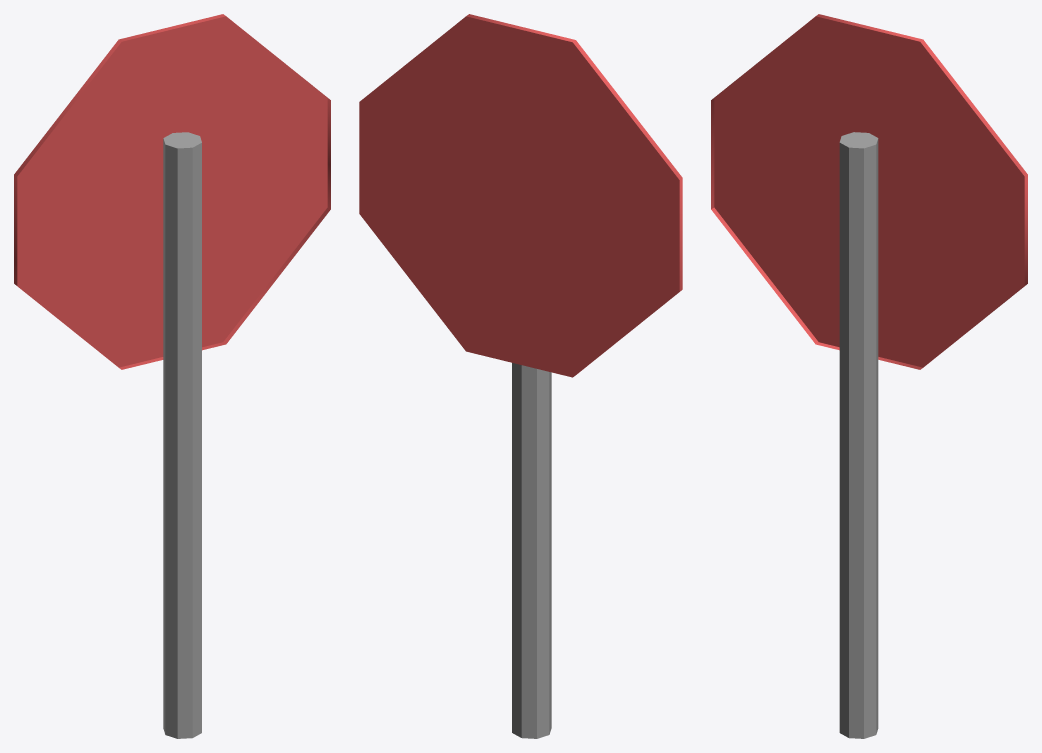
Rendered from stopSign_proxy.fbx.
The picture shows the model from 3 angles, left to right: view 1: azimuth 30°, elevation 25°; view 2: azimuth 150°, elevation 25°; view 3: azimuth 330°, elevation 25°; orthographic projection. The views are drawn at different scales.
Parts seen in each view (by area): view 1: stopSign_sign_01, stopSign_pole_01; view 2: stopSign_sign_01, stopSign_pole_01; view 3: stopSign_sign_01, stopSign_pole_01.
Part boxes in pixels (x1,y1,x2,y2): stopSign_sign_01: (14, 14, 330, 369); stopSign_pole_01: (163, 132, 201, 738); stopSign_sign_01: (359, 14, 682, 377); stopSign_pole_01: (512, 363, 551, 738); stopSign_sign_01: (711, 14, 1027, 369); stopSign_pole_01: (839, 132, 878, 738).
Bounding box in the file's own units: 8.64 × 18.3 × 1.05.
